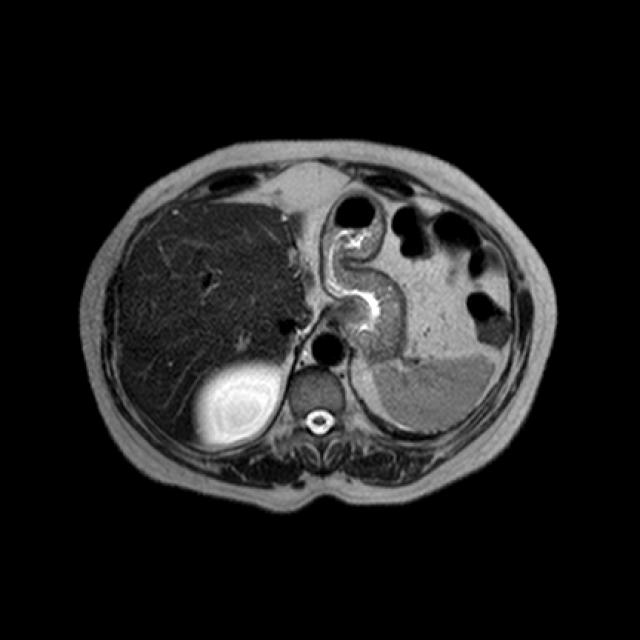sag: (190, 358, 283, 448)
